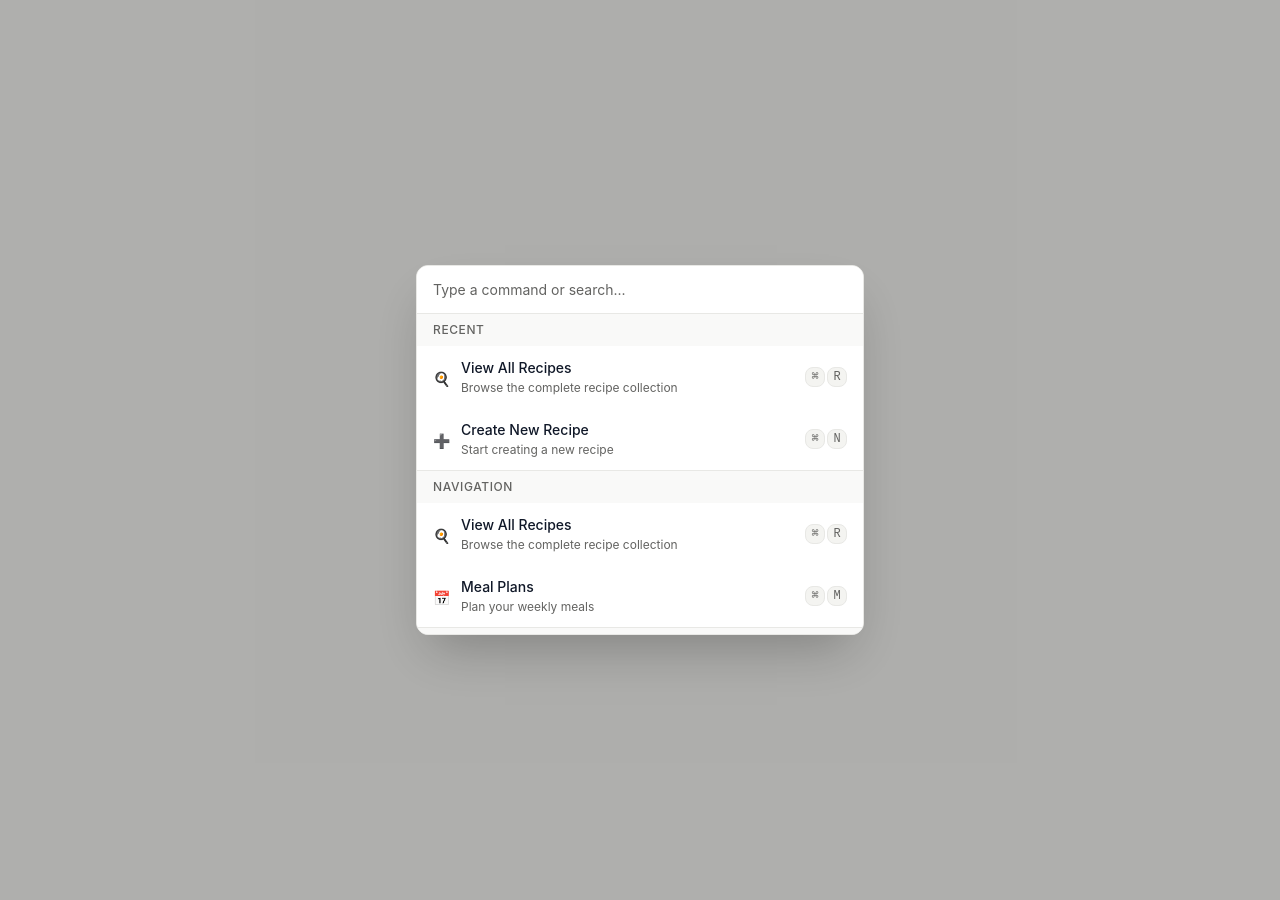
Scenario: CommandPalette › Recent Commands › hides recent commands when search is active
The image size is (1280, 900).
Expected: the text "Recent" is shown, [417,314,863,346]
Type "recipe" into the search field at (640, 290), box [417,266,863,314]
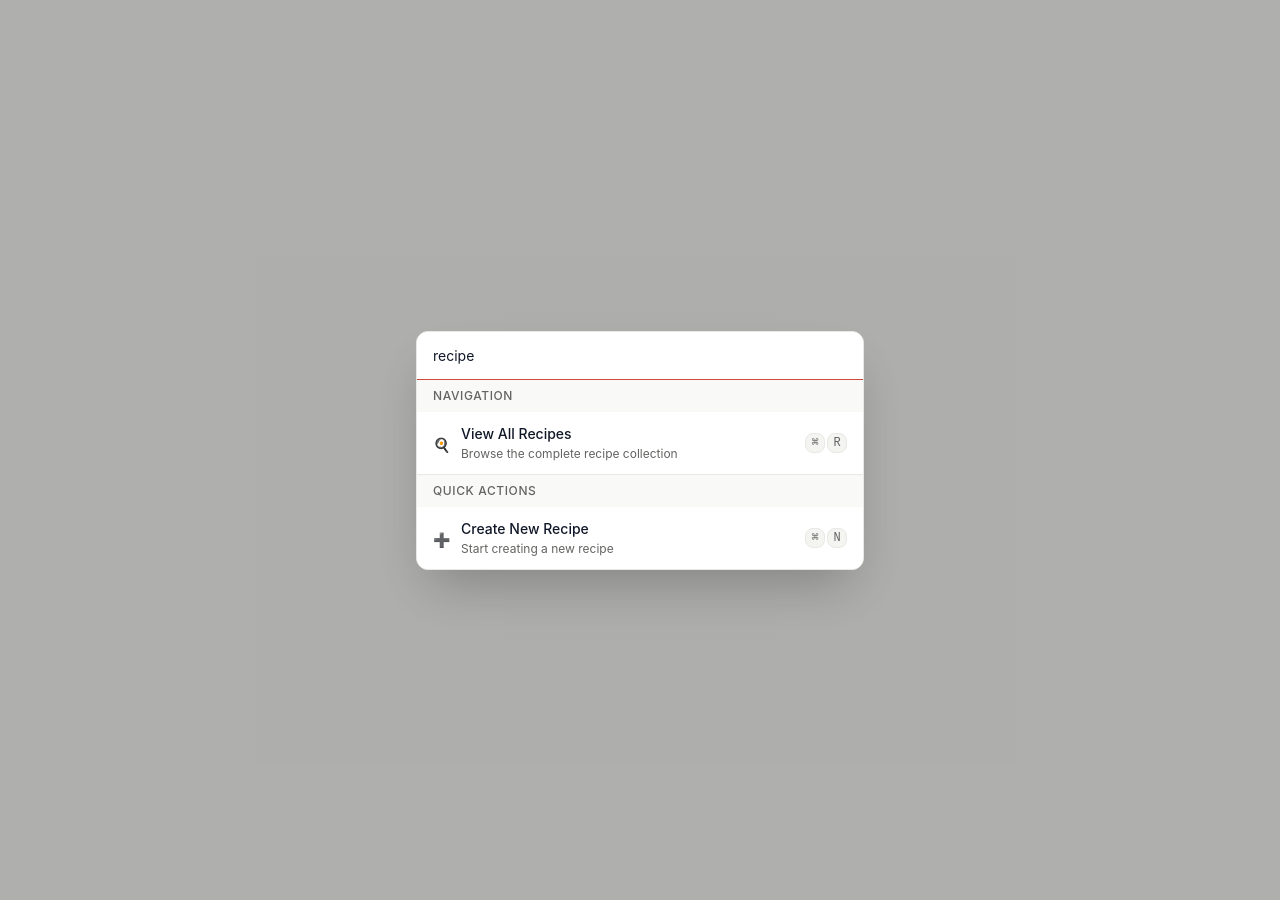
Result: the text "Recent" is gone
